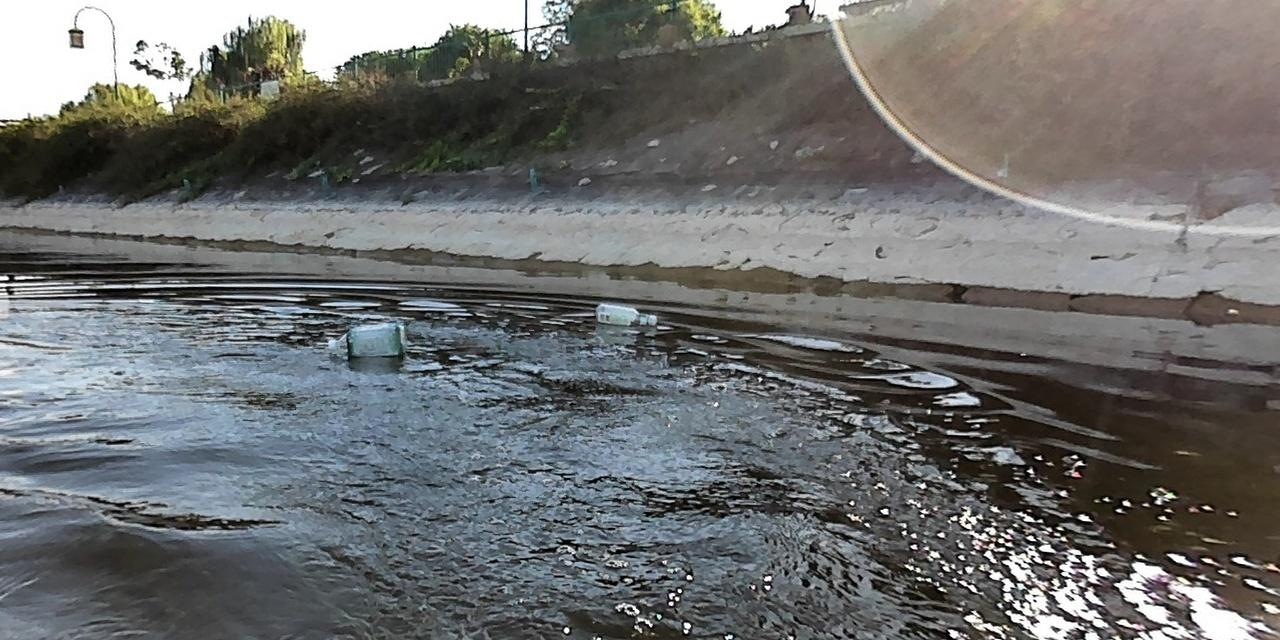bottle: (320, 319, 407, 359), (591, 299, 661, 329)
